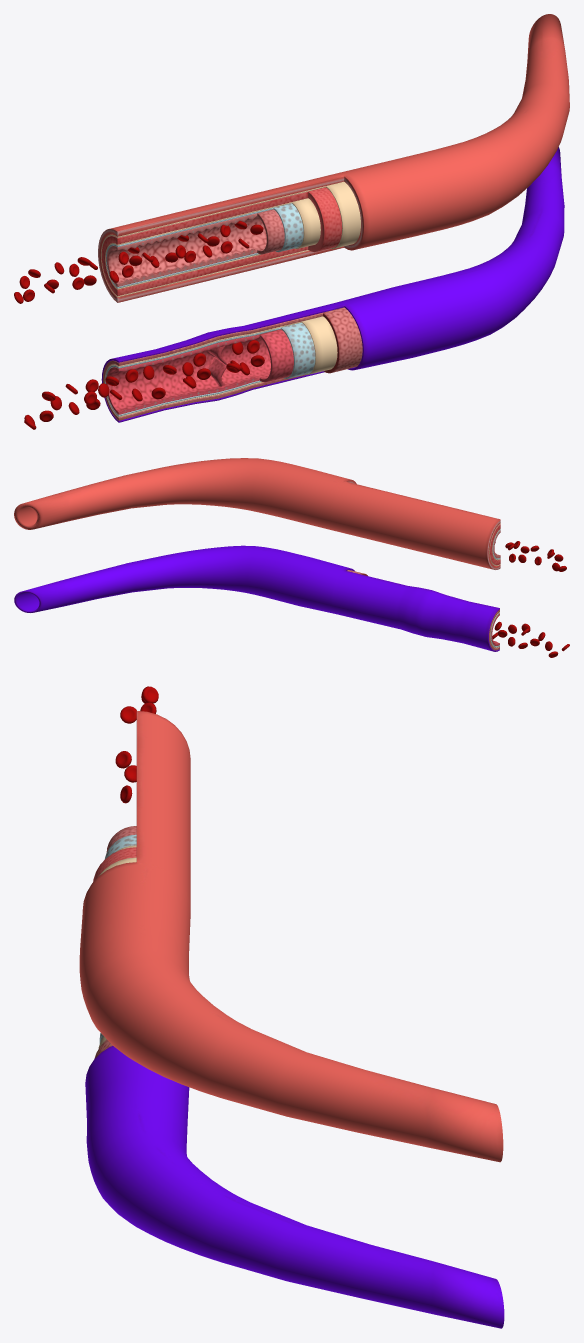
The model's file is Mạch máu.glb.
The picture shows the model from 3 angles, top to bottom: view 1: azimuth 30°, elevation 25°; view 2: azimuth 150°, elevation 25°; view 3: azimuth 270°, elevation 25°; orthographic projection. The views are drawn at different scales.
Parts seen in each view (by area): view 1: Outer layer, Lumen, Smooth Muscle, Artery, Connective Tissue, Inner Elastin, Inner Ring, Vein, Outer Elastin; view 2: Outer layer, Artery, Vein, Smooth Muscle; view 3: Outer layer, Artery.
Boxes of the visible parts, x1,y1,x2,y2 form: Outer layer: (337,14,569,369); Lumen: (106,213,258,414); Smooth Muscle: (101,187,362,420); Artery: (98,172,367,302); Connective Tissue: (105,203,315,416); Inner Elastin: (104,198,337,417); Inner Ring: (245,209,293,382); Vein: (101,302,365,422); Outer Elastin: (101,181,360,297); Outer layer: (14,458,349,614); Artery: (330,479,500,569); Vein: (331,568,499,651); Smooth Muscle: (347,524,500,650); Outer layer: (79,864,504,1328); Artery: (82,711,190,910).
Size of the model in its own units: 7.31 by 2.01 by 2.9.
Materials: 1 (1 with a texture image).
